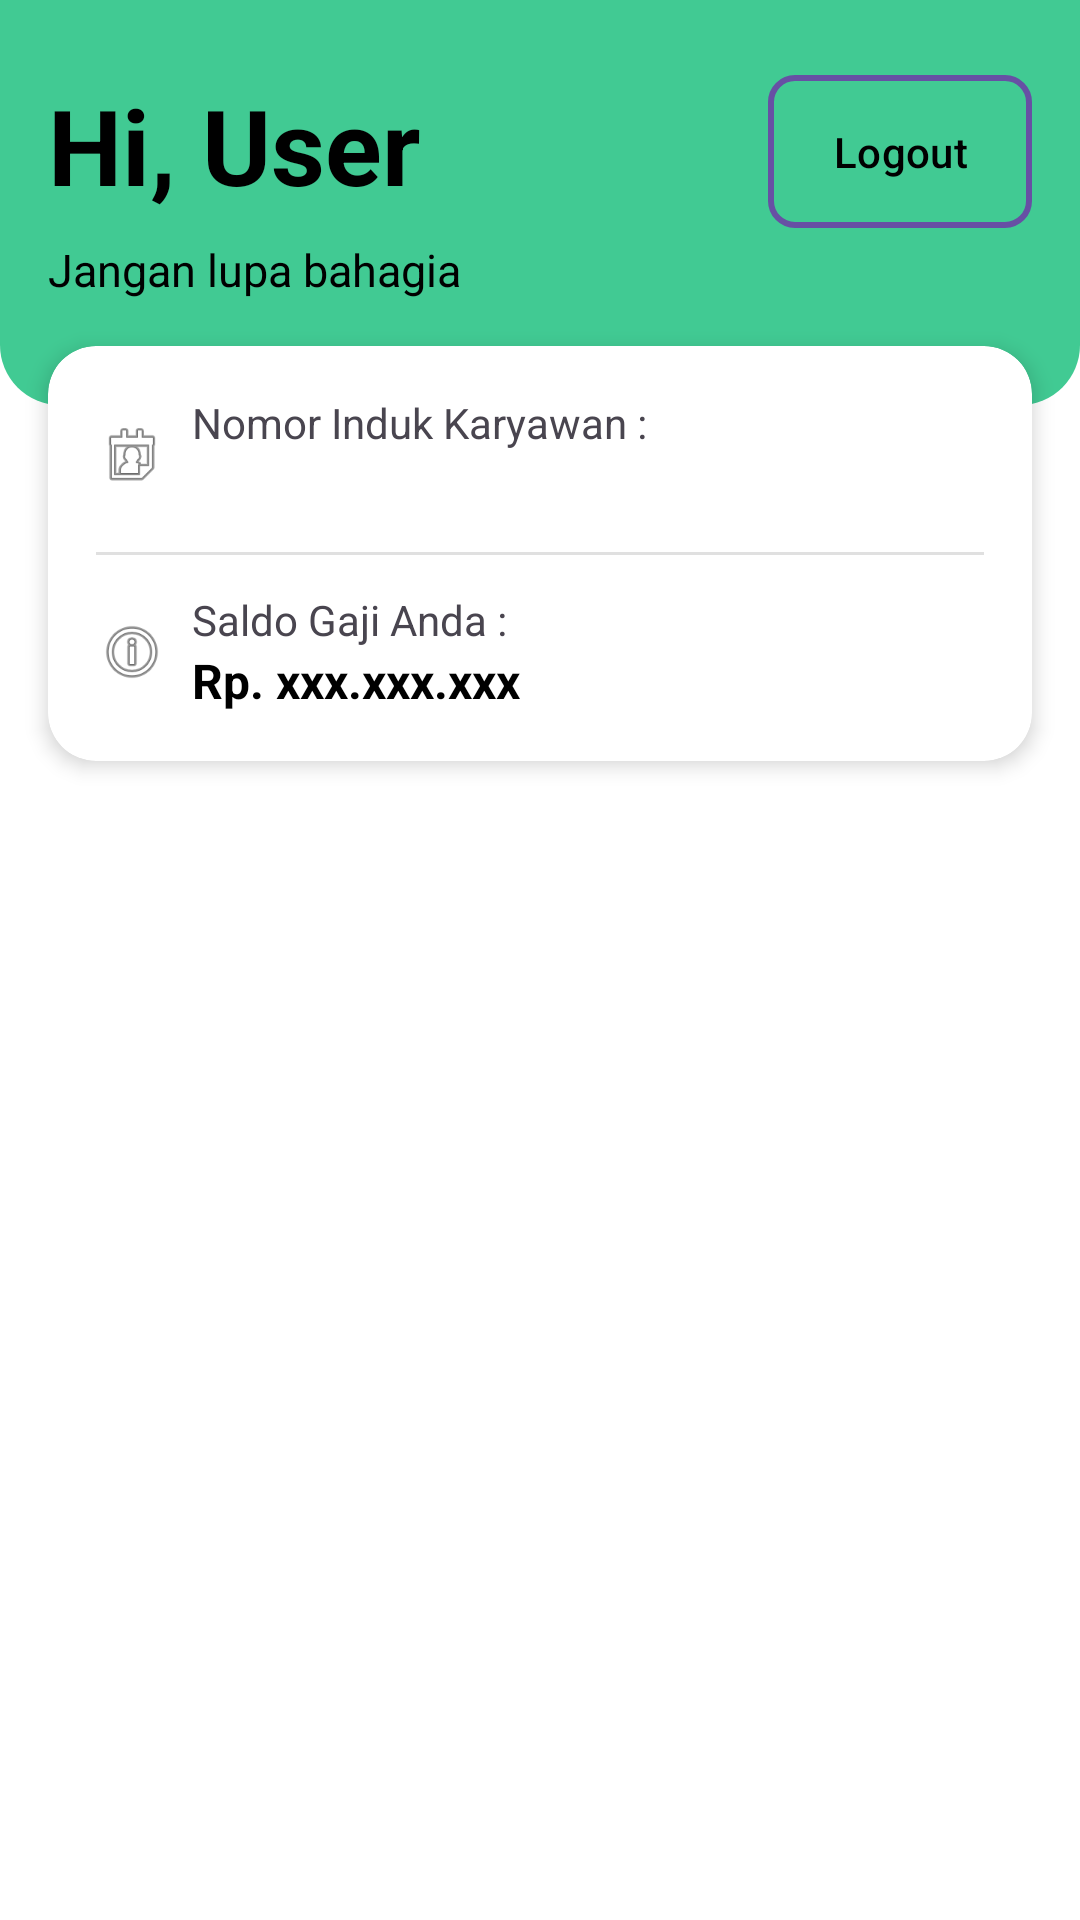

Locate icon controls on the screen. Image size 1080×1920, boxes as bbox=(x1, y1, x2, y2).
calendar: bbox=(109, 428, 155, 481)
info details: bbox=(106, 626, 158, 678)
